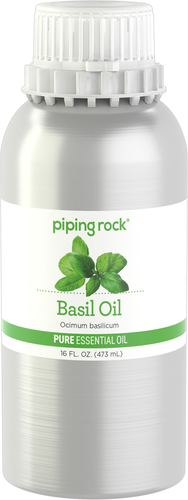Aerosol_cans: (1, 1, 188, 500)
